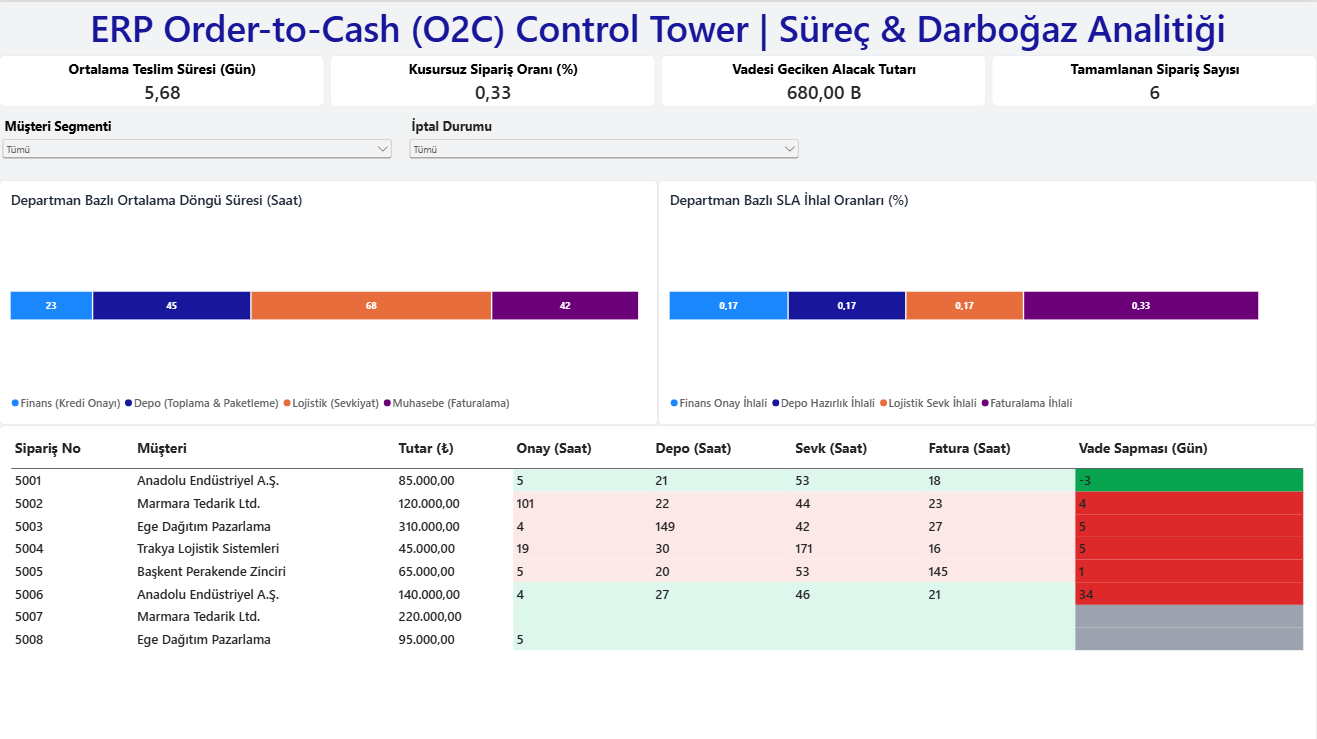

The dashboard page shown, as its layout file describes it:
{"tool":"powerbi","page":{"name":"1. sayfa","canvas":[1920,1080],"ordinal":0},"visuals":[{"type":"cardVisual","fields":{"Data":["_Measures.Ortalama_Lead_Time_Gun","_Measures.Kusursuz_Siparis_Orani_%","_Measures.Vadesi_Geciken_Alacak_Tutari","_Measures.Tamamlanan_Siparis_Sayisi"]},"box":[0,77.2,1920,75.9],"z":0},{"type":"barChart","title":"Departman Bazlı Ortalama Döngü Süresi (Saat)","fields":{"Y":["_Measures.Ort_Finans_Onay_Saat","_Measures.Ort_Depo_Hazirlik_Saat","_Measures.Ort_Lojistik_Sevk_Saat","_Measures.Ort_Fatura_Kesim_Saat"]},"box":[0,259.3,960,356.9],"z":1},{"type":"slicer","fields":{"Values":["dim_customers.customer_segment"]},"box":[0,167.5,576.9,91.8],"z":4},{"type":"slicer","fields":{"Values":["fact_order_processing.cancellation_status"]},"box":[592.9,167.5,576.9,91.8],"z":5},{"type":"textbox","box":[0,0,1920,77.2],"z":6},{"type":"tableEx","fields":{"Values":["fact_order_processing.order_id","dim_customers.customer_name","fact_order_processing.order_amount","fact_order_processing.Onay_Suresi_Saat","fact_order_processing.Depo_Suresi_Saat","fact_order_processing.Sevk_Suresi_Saat","fact_order_processing.Fatura_Suresi_Saat","fact_order_processing.Tahsilat_Gecikme_Gun"]},"box":[0,616.2,1920,463.2],"z":8},{"type":"barChart","title":"Departman Bazlı SLA İhlal Oranları (%)","fields":{"Y":["_Measures.Finans_SLA_Ihlal_Orani_%","_Measures.Depo_SLA_Ihlal_Orani_%","_Measures.Lojistik_SLA_Ihlal_Orani_%","_Measures.Muhasebe_SLA_Ihlal_Orani_%"]},"box":[960,259.3,960,356.9],"z":9}]}

Visuals, with their boxes in screenshot pixels (x1, y1, x2, y2), scaled from the page's 1920x1080 canvas onto the 1317x739 screenshot:
cardVisual - _Measures.Ortalama_Lead_Time_Gun x _Measures.Kusursuz_Siparis_Orani_%: [0, 53, 1316, 105]
"Departman Bazlı Ortalama Döngü Süresi (Saat)" barChart: [0, 177, 658, 422]
slicer - dim_customers.customer_segment: [0, 115, 396, 177]
slicer - fact_order_processing.cancellation_status: [407, 115, 802, 177]
textbox: [0, 0, 1316, 53]
tableEx - fact_order_processing.order_id x dim_customers.customer_name: [0, 422, 1316, 738]
"Departman Bazlı SLA İhlal Oranları (%)" barChart: [658, 177, 1316, 422]
